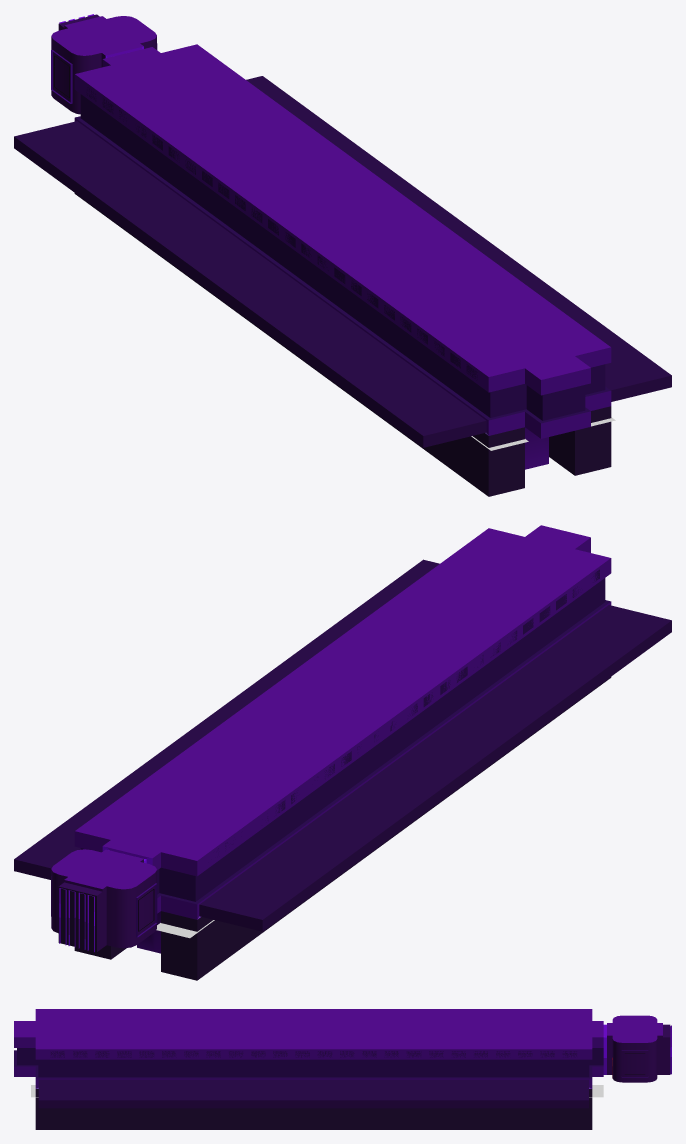
File: level1.glb
3 renders of one model, top to bottom at view 1: azimuth 30°, elevation 25°; view 2: azimuth 150°, elevation 25°; view 3: azimuth 270°, elevation 25°, orthographic. The views are drawn at different scales.
Parts seen in each view (by area): view 1: levelB, roof, lampT; view 2: levelB, roof, lampT; view 3: levelB, roof, lampT, end.
Part boxes in pixels (x1=…): levelB: x1=14, y1=14, x2=671, y2=496; roof: x1=51, y1=16, x2=610, y2=379; lampT: x1=86, y1=87, x2=477, y2=380; levelB: x1=14, y1=537, x2=671, y2=980; roof: x1=51, y1=525, x2=610, y2=889; lampT: x1=218, y1=569, x2=599, y2=848; levelB: x1=14, y1=1024, x2=671, y2=1129; roof: x1=14, y1=1009, x2=662, y2=1049; lampT: x1=50, y1=1051, x2=576, y2=1057; end: x1=31, y1=1085, x2=603, y2=1097.
Size of the model in its own units: 31.55 by 14.53 by 108.
4 materials, 2 textured.
